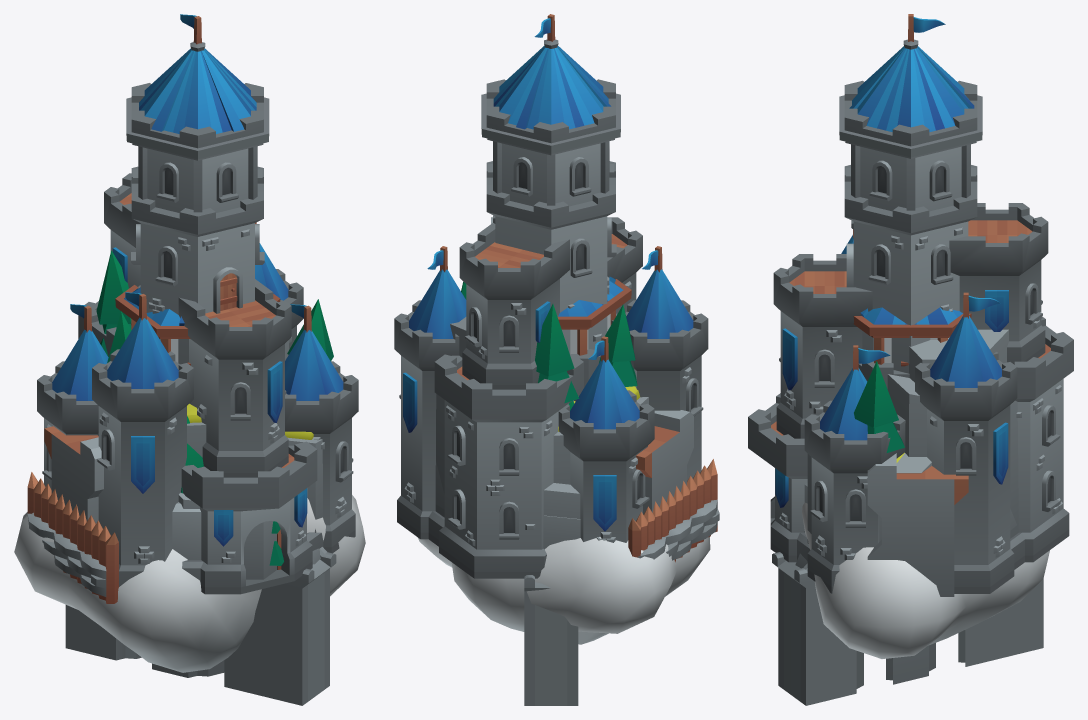
File: env_core.glb
3 views of the same model, side by side, from view 1: azimuth 30°, elevation 25°; view 2: azimuth 150°, elevation 25°; view 3: azimuth 270°, elevation 25° (orthographic). The views are drawn at different scales.
Visible parts, largest first — view 1: building_castle_blue, cloud_small, building_bridge_A, mountain_A_grass_trees, fence_wood_straight, wall_straight, fence_stone_straight, building_tower_A_top_blue, mountain_B; view 2: building_castle_blue, cloud_small, mountain_A_grass_trees, building_bridge_A, wall_straight, fence_wood_straight, mountain_B, building_tower_A_top_blue, fence_stone_straight; view 3: building_castle_blue, cloud_small, building_bridge_A, wall_straight, mountain_B, building_tower_A_top_blue, mountain_A_grass_trees.
Boxes of the visible parts, left/top/right/bottom form: building_castle_blue: left=37, top=14, right=358, bottom=594; cloud_small: left=14, top=495, right=365, bottom=672; building_bridge_A: left=65, top=547, right=336, bottom=705; mountain_A_grass_trees: left=96, top=250, right=333, bottom=579; fence_wood_straight: left=27, top=472, right=118, bottom=603; wall_straight: left=44, top=426, right=103, bottom=523; fence_stone_straight: left=27, top=513, right=106, bottom=596; building_tower_A_top_blue: left=115, top=285, right=280, bottom=365; mountain_B: left=244, top=340, right=288, bottom=579; building_castle_blue: left=394, top=14, right=708, bottom=578; cloud_small: left=417, top=537, right=710, bottom=644; mountain_A_grass_trees: left=435, top=282, right=648, bottom=549; building_bridge_A: left=524, top=575, right=578, bottom=705; wall_straight: left=636, top=410, right=693, bottom=514; fence_wood_straight: left=628, top=459, right=717, bottom=562; mountain_B: left=435, top=317, right=580, bottom=518; building_tower_A_top_blue: left=557, top=276, right=631, bottom=355; fence_stone_straight: left=638, top=499, right=719, bottom=560; building_castle_blue: left=748, top=14, right=1073, bottom=593; cloud_small: left=802, top=502, right=1049, bottom=658; building_bridge_A: left=772, top=552, right=1043, bottom=705; wall_straight: left=867, top=453, right=968, bottom=596; mountain_B: left=879, top=329, right=1018, bottom=541; building_tower_A_top_blue: left=853, top=307, right=971, bottom=366; mountain_A_grass_trees: left=807, top=361, right=1016, bottom=543.
Size of the model in its own units: 2.34 by 4.98 by 2.26.
1 material, 1 textured.
